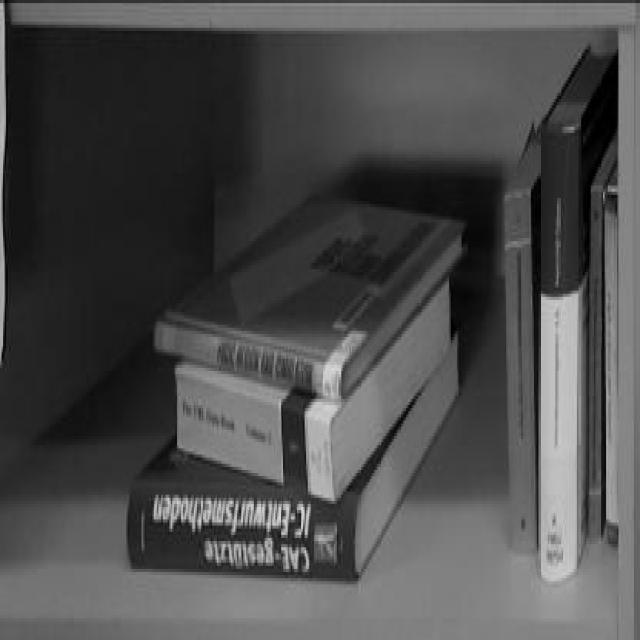book: (165, 200, 463, 399), (144, 371, 350, 503), (127, 470, 377, 576), (539, 117, 580, 552)
